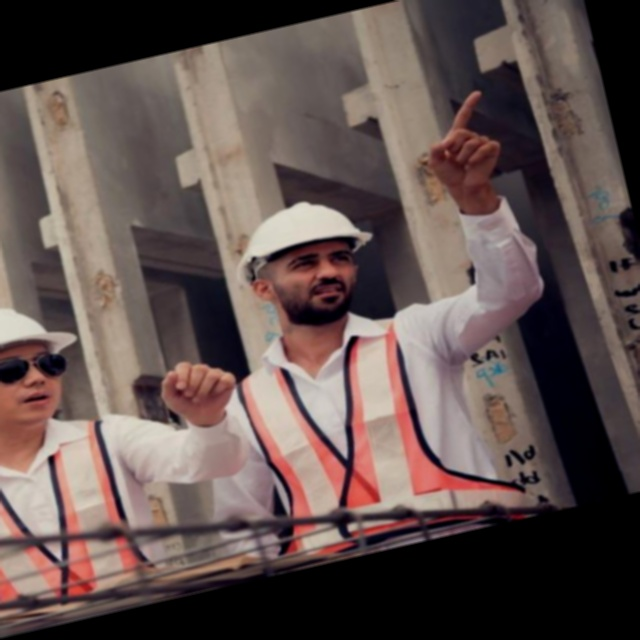Con_Casco: (226, 186, 388, 341), (0, 294, 90, 444)
Con_Chaleco: (230, 295, 520, 573), (0, 408, 157, 638)
